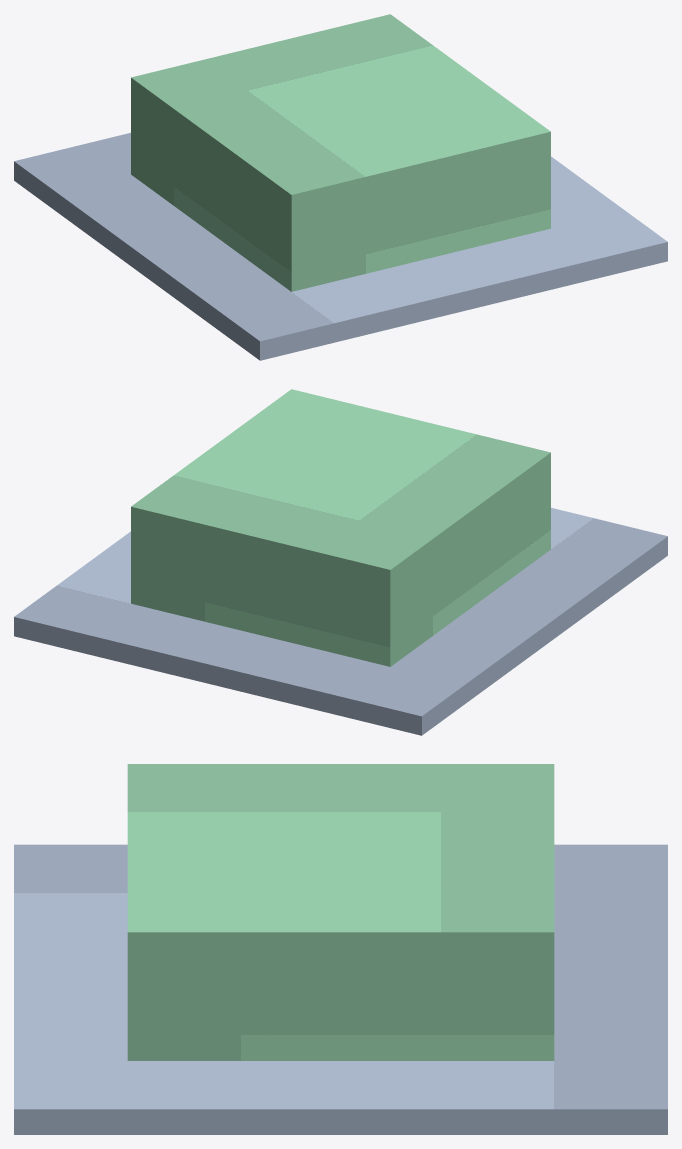
The model's file is IAFarmnerHat.gltf.
3 renders of one model, top to bottom at view 1: azimuth 30°, elevation 25°; view 2: azimuth 150°, elevation 25°; view 3: azimuth 270°, elevation 25°, orthographic. The views are drawn at different scales.
Visible parts, largest first — view 1: 33f23075-65fb-6f89-5601-0a6150a04a11, 5bf76bcb-a855-a476-91c2-e9092c482ef4; view 2: 33f23075-65fb-6f89-5601-0a6150a04a11, 5bf76bcb-a855-a476-91c2-e9092c482ef4; view 3: 33f23075-65fb-6f89-5601-0a6150a04a11, 5bf76bcb-a855-a476-91c2-e9092c482ef4.
Part boxes in pixels (x1=…): 33f23075-65fb-6f89-5601-0a6150a04a11: x1=131, y1=14, x2=550, y2=291; 5bf76bcb-a855-a476-91c2-e9092c482ef4: x1=14, y1=132, x2=667, y2=360; 33f23075-65fb-6f89-5601-0a6150a04a11: x1=131, y1=389, x2=550, y2=666; 5bf76bcb-a855-a476-91c2-e9092c482ef4: x1=14, y1=507, x2=667, y2=735; 33f23075-65fb-6f89-5601-0a6150a04a11: x1=127, y1=764, x2=554, y2=1060; 5bf76bcb-a855-a476-91c2-e9092c482ef4: x1=14, y1=844, x2=667, y2=1134.
Bounding box in the file's own units: 5.5 × 1.5 × 5.75.
Materials: 2 (2 with a texture image).
